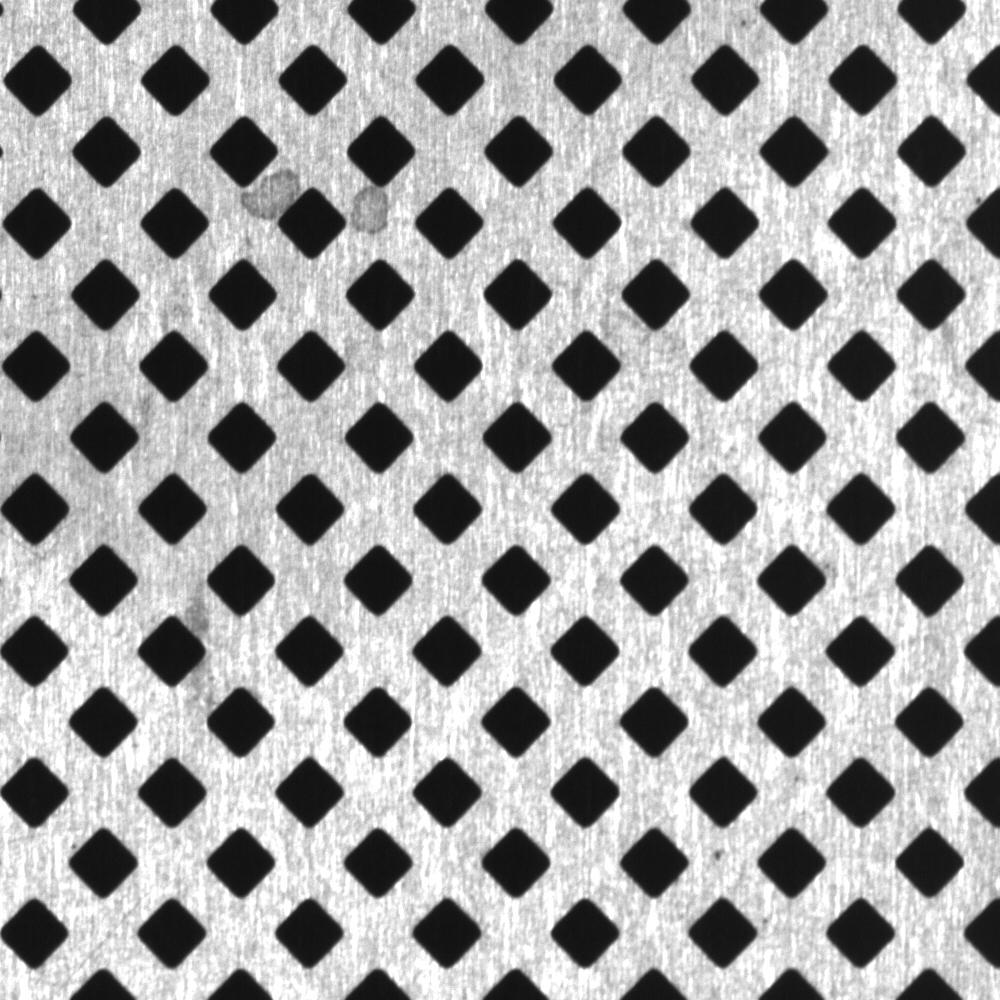Discolor: (230, 153, 311, 232), (334, 171, 402, 239)
